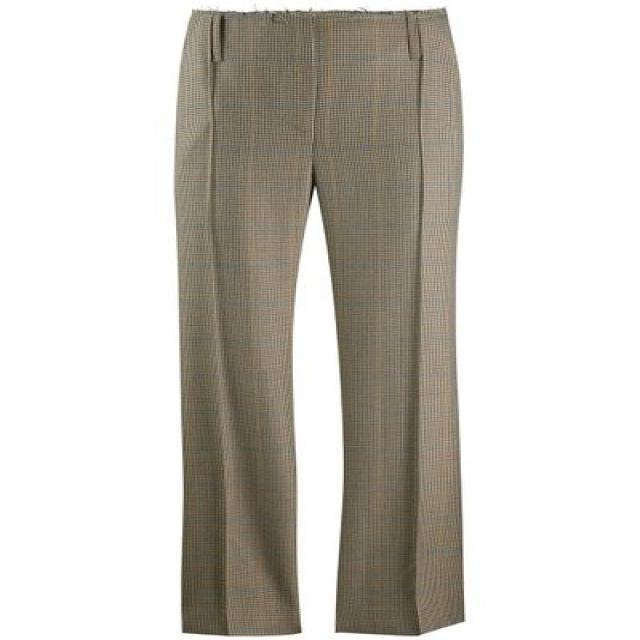pants: (167, 5, 471, 634)
